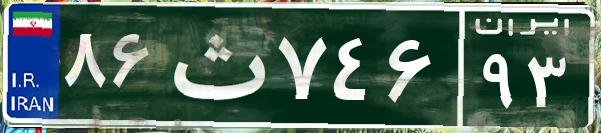3: (525, 38, 570, 115)
4: (330, 28, 385, 110)
6: (385, 28, 445, 110), (110, 28, 158, 105)
7: (273, 28, 330, 110)
8: (57, 26, 110, 107)
9: (475, 38, 525, 113)
ث: (158, 15, 273, 115)
